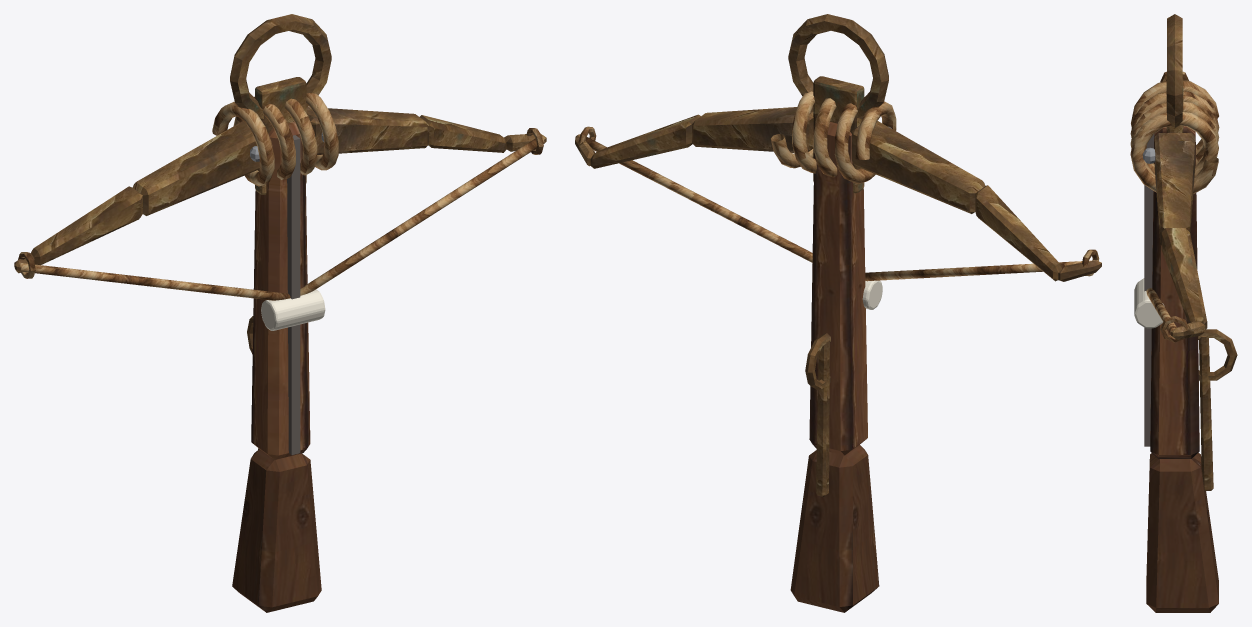
The model's file is crossbow_bronze.glb.
3 views of the same model, side by side, from view 1: azimuth 30°, elevation 25°; view 2: azimuth 150°, elevation 25°; view 3: azimuth 270°, elevation 25° (orthographic).
Parts seen in each view (by area): view 1: model; view 2: model; view 3: model.
Part boxes in pixels (x1,y1,x2,y2): model: (14, 14, 546, 612); model: (575, 14, 1101, 612); model: (1130, 14, 1237, 612).
Bounding box in the file's own units: 0.74 × 0.7792 × 0.13.
Materials: 8 (5 with a texture image).
